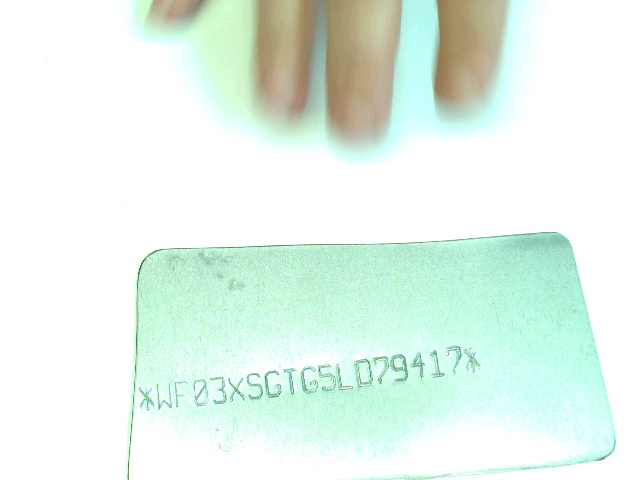0: (190, 378, 209, 407)
1: (429, 348, 446, 380)
3: (208, 376, 229, 405)
4: (409, 349, 428, 380)
5: (317, 362, 337, 392)
7: (446, 345, 465, 378), (372, 355, 389, 385)
9: (390, 353, 409, 383)
d: (353, 359, 374, 389)
f: (174, 379, 189, 408)
g: (299, 364, 319, 394), (264, 368, 283, 398)
l: (335, 362, 354, 392)
s: (246, 372, 264, 399)
t: (283, 366, 299, 396)
w: (155, 381, 173, 410)
x: (228, 374, 245, 402)
